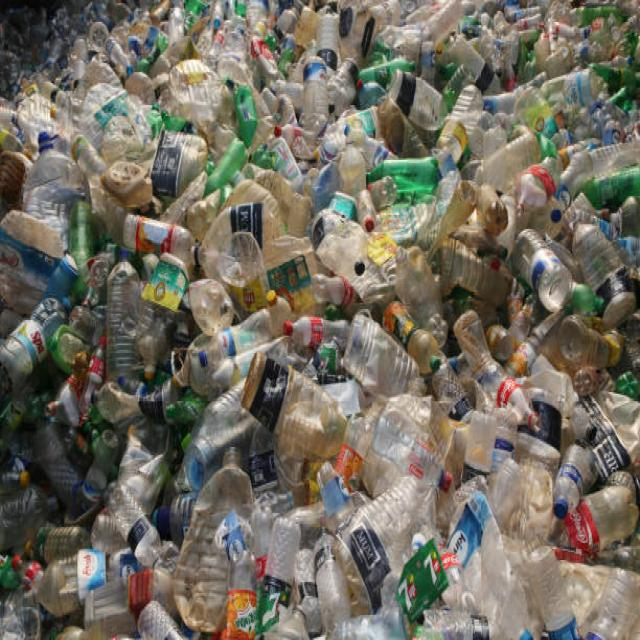plastic: (45, 36, 600, 568)
